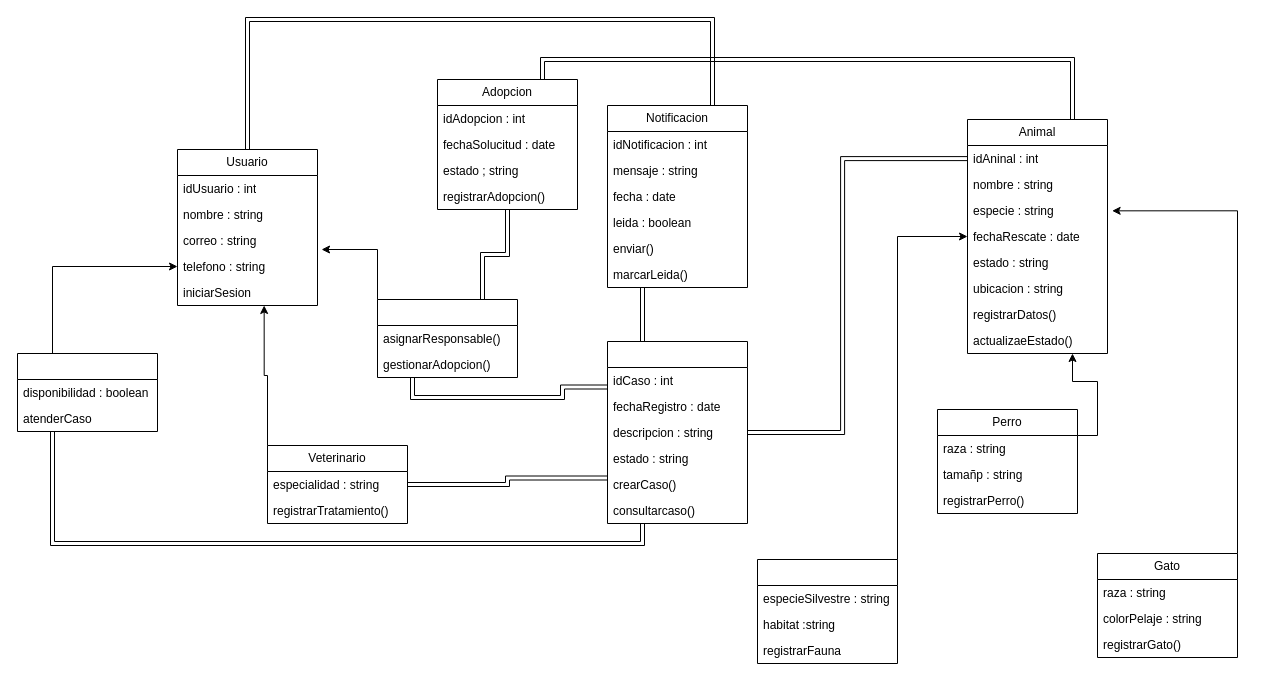
This 1263x684 diagram has some shape labels left out. The shapes that lost their labels are listed below. From the top down, each one's box as (x1, y1, x2, y2) in pixels, then its label:
(376, 298, 518, 378): Administrador
(16, 352, 158, 432): Voluntario
(606, 340, 748, 524): CasoRescate
(756, 558, 898, 664): FaunaSilvestre
